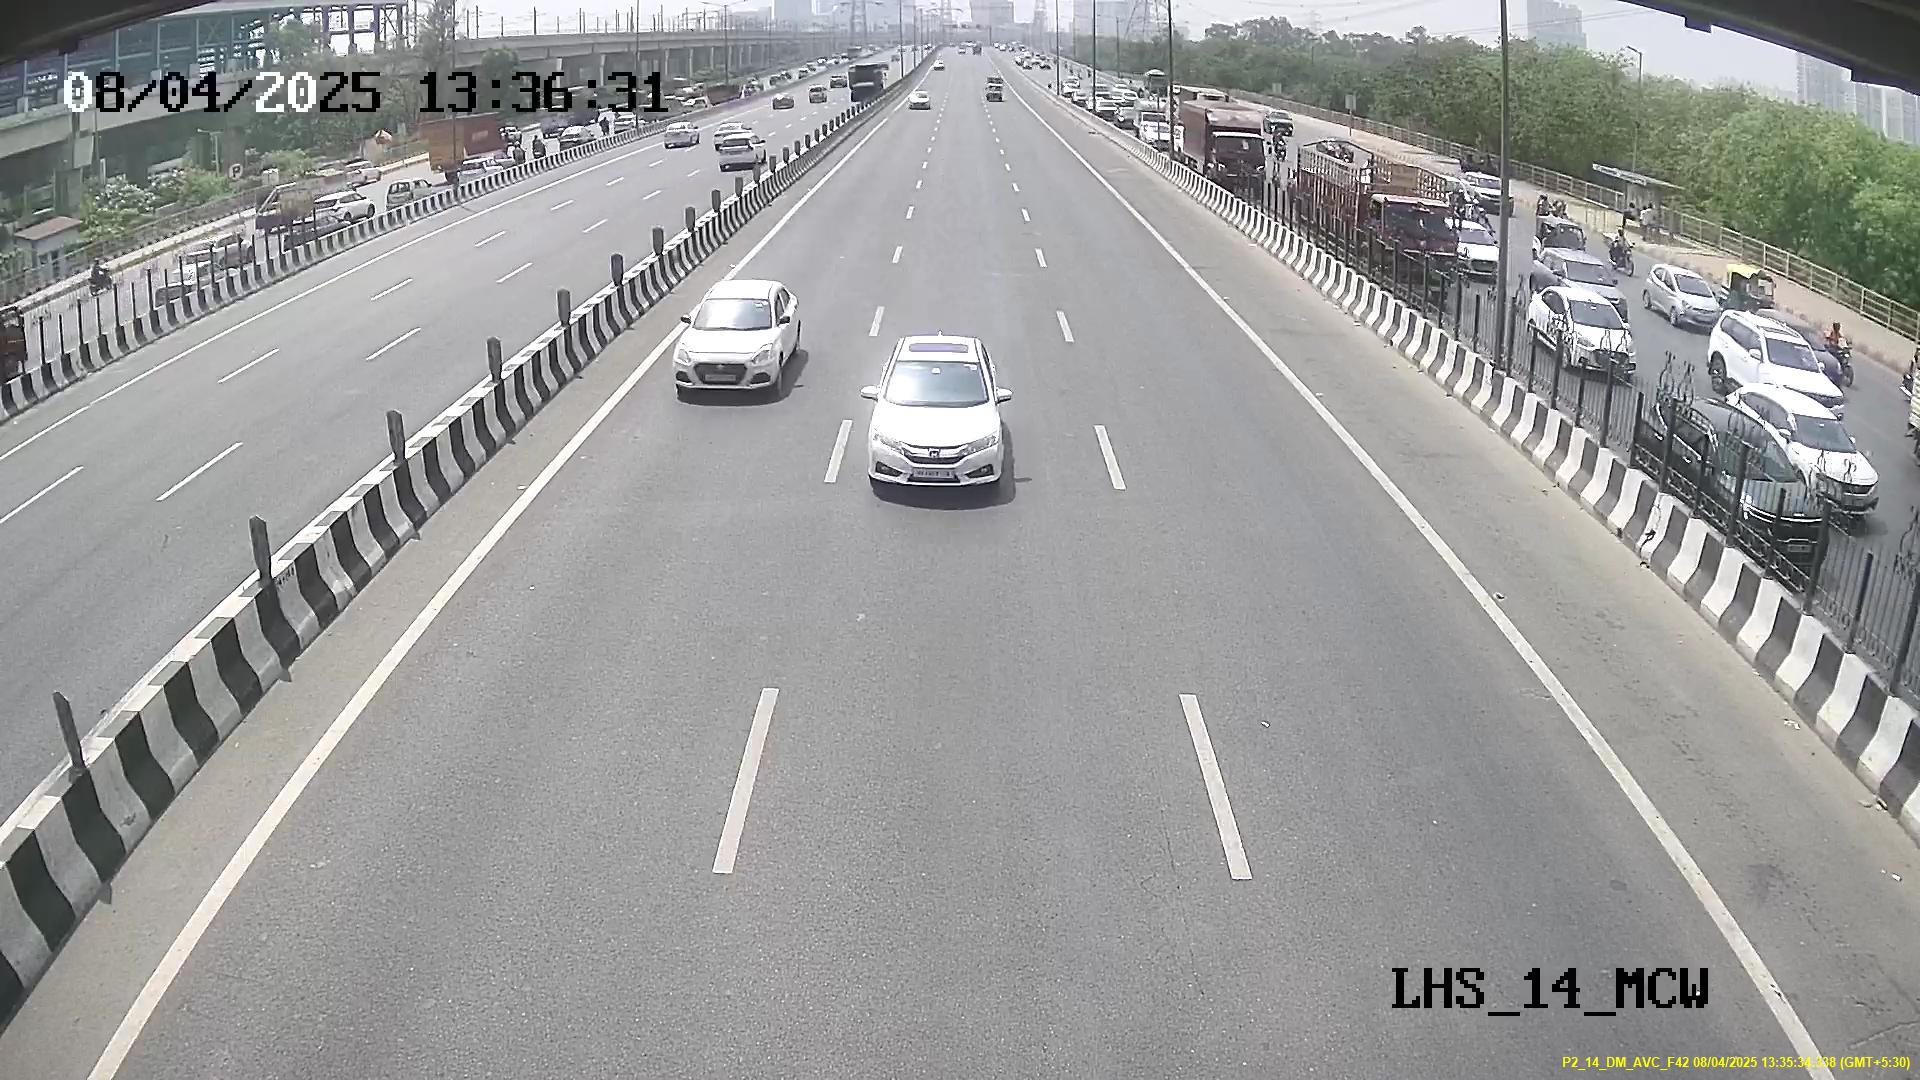car: (856, 330, 1015, 508), (669, 277, 794, 398)
